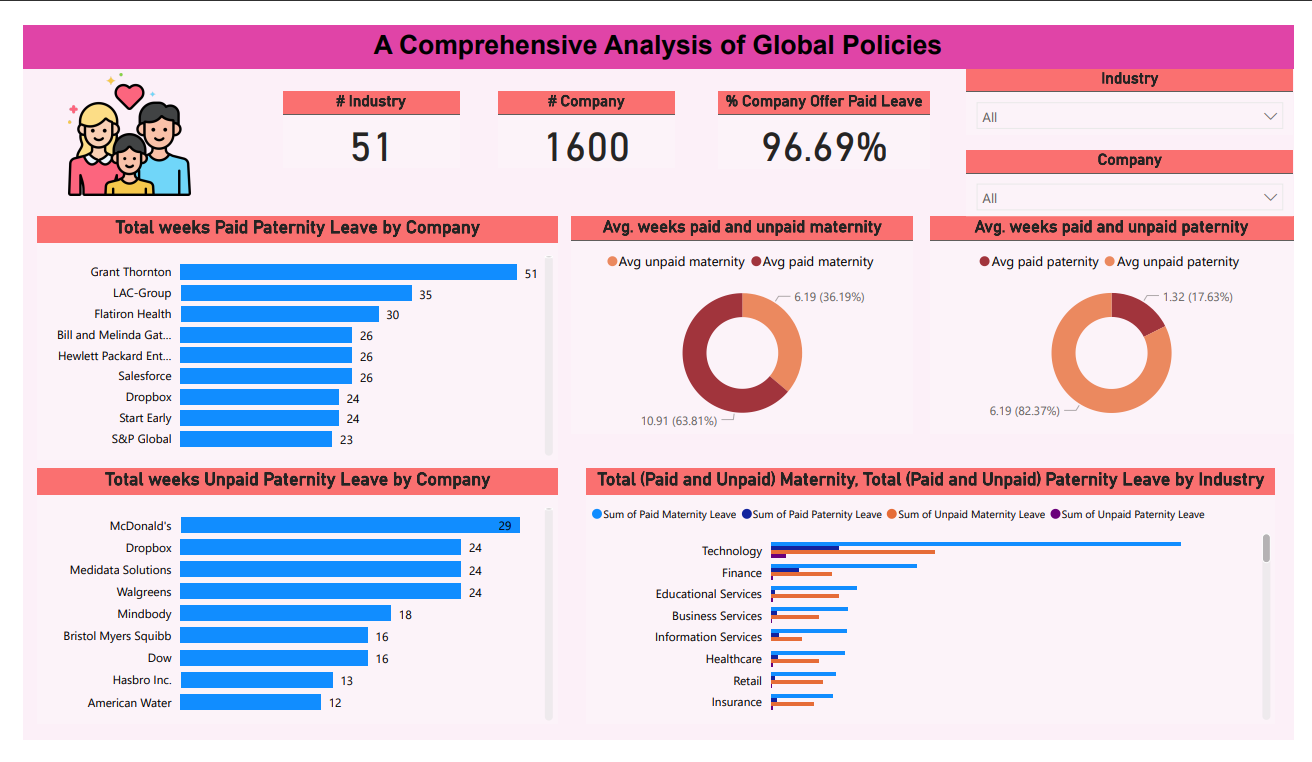

This screenshot's page, from the dashboard's own definition file:
{"tool":"powerbi","page":{"name":"Overview","canvas":[1280,720],"ordinal":0},"visuals":[{"type":"card","title":"# Company","fields":{"Values":["_DAX Measures.# Company"]},"box":[478.9,67.2,178.4,76.8],"z":0},{"type":"card","title":"# Industry","fields":{"Values":["_DAX Measures.# Industry"]},"box":[262.1,67.2,178.4,76.8],"z":1000},{"type":"donutChart","title":"Avg. weeks paid and unpaid paternity","fields":{"Y":["_DAX Measures.Avg paid paternity","_DAX Measures.Avg unpaid paternity"]},"box":[913.9,193.5,366.4,218.2],"z":2000},{"type":"donutChart","title":"Avg. weeks paid and unpaid maternity","fields":{"Y":["_DAX Measures.Avg unpaid maternity","_DAX Measures.Avg paid maternity"]},"box":[553,193.5,336.2,218.2],"z":3000},{"type":"clusteredBarChart","title":"Total (Paid and Unpaid) Maternity, Total (Paid and Unpaid) Paternity Leave by Industry","fields":{"Category":["Parental Leave.Industry"],"Y":["Sum(Parental Leave.Paid Maternity Leave)","Sum(Parental Leave.Paid Paternity Leave)","Sum(Parental Leave.Unpaid Maternity Leave)","Sum(Parental Leave.Unpaid Paternity Leave)"]},"box":[568.1,437.7,694.3,258],"z":4000},{"type":"clusteredBarChart","title":"Total weeks Paid Paternity Leave by Company","fields":{"Category":["Parental Leave.Company"],"Y":["Sum(Parental Leave.Paid Paternity Leave)"]},"box":[15.1,193.5,524.2,244.3],"z":5000},{"type":"clusteredBarChart","title":"Total weeks Unpaid Paternity Leave by Company","fields":{"Y":["Sum(Parental Leave.Unpaid Paternity Leave)"],"Category":["Parental Leave.Company"]},"box":[15.5,438.1,524.3,257.2],"z":6000},{"type":"card","title":"# Company Offer Paid Leave","fields":{"Values":["_DAX Measures.# Company Offer Paternity Paid"]},"box":[701.2,67.2,212.7,76.8],"z":7000},{"type":"image","box":[15.5,39.6,213.4,144.1],"z":8000},{"type":"slicer","title":"Company","fields":{"Values":["Parental Leave.Company"]},"box":[983.5,111.6,278.4,66.4],"z":9000},{"type":"slicer","title":"Industry","fields":{"Values":["Parental Leave.Industry"]},"box":[983.5,43.8,278.4,67.8],"z":10000},{"type":"textbox","box":[135.7,0,835.2,43.8],"z":11000}]}

Visuals, with their boxes on the page's 1280x720 design canvas (x1, y1, x2, y2). These are canvas units, not pixel positions in the 1312x762 screenshot, which may show the page scaled, cropped or inside an application window:
"# Company" card: left=479, top=67, right=657, bottom=144
"# Industry" card: left=262, top=67, right=440, bottom=144
"Avg. weeks paid and unpaid paternity" donutChart: left=914, top=194, right=1280, bottom=412
"Avg. weeks paid and unpaid maternity" donutChart: left=553, top=194, right=889, bottom=412
"Total (Paid and Unpaid) Maternity, Total (Paid and Unpaid) Paternity Leave by Industry" clusteredBarChart: left=568, top=438, right=1262, bottom=696
"Total weeks Paid Paternity Leave by Company" clusteredBarChart: left=15, top=194, right=539, bottom=438
"Total weeks Unpaid Paternity Leave by Company" clusteredBarChart: left=16, top=438, right=540, bottom=695
"# Company Offer Paid Leave" card: left=701, top=67, right=914, bottom=144
image: left=16, top=40, right=229, bottom=184
"Company" slicer: left=984, top=112, right=1262, bottom=178
"Industry" slicer: left=984, top=44, right=1262, bottom=112
textbox: left=136, top=0, right=971, bottom=44
